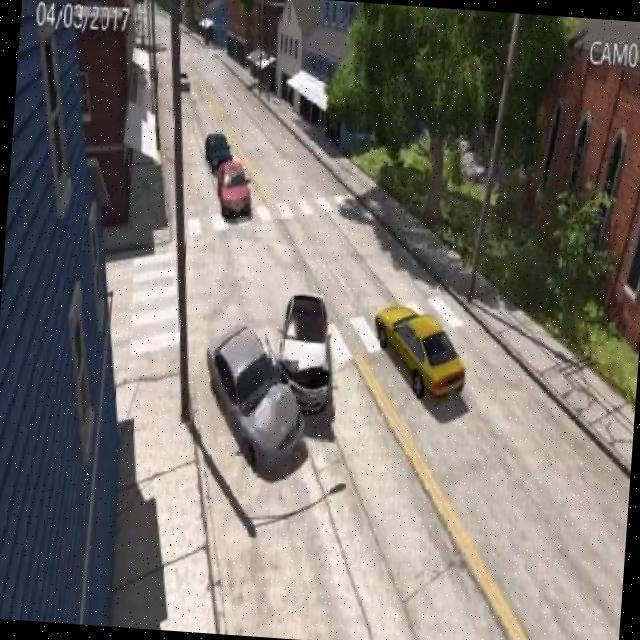accident: (230, 298, 327, 465)
